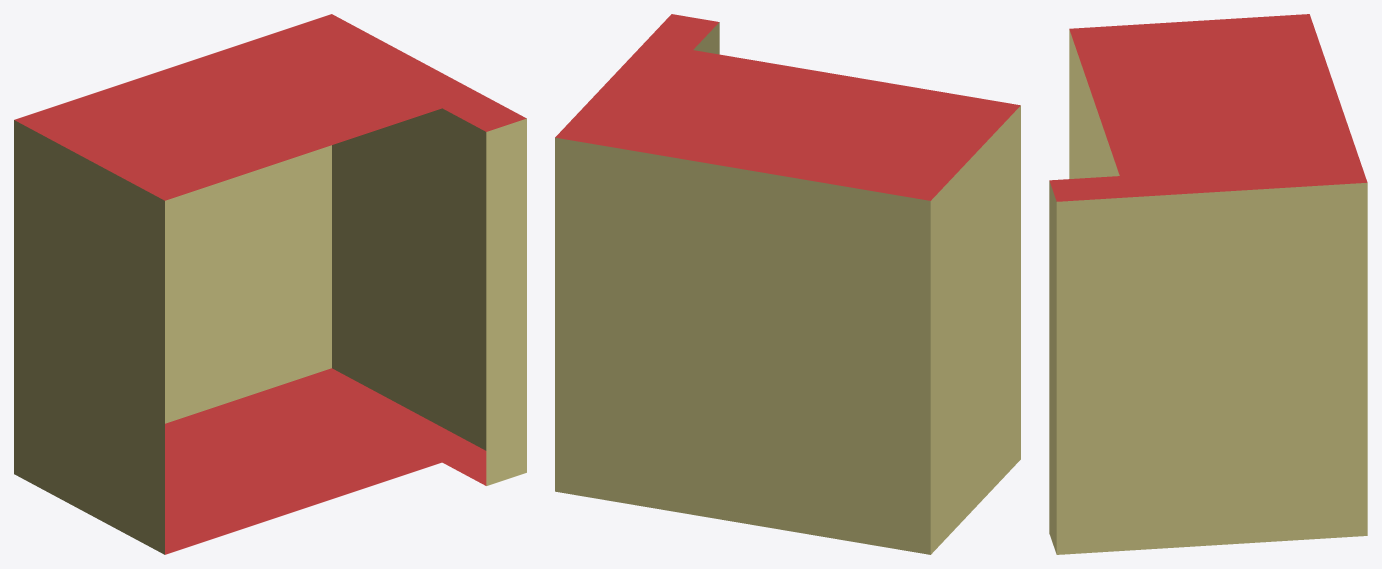
The picture shows the model from 3 angles, left to right: view 1: azimuth 30°, elevation 25°; view 2: azimuth 150°, elevation 25°; view 3: azimuth 270°, elevation 25°; orthographic projection.
Size of the model in its own units: 6.49 by 4.65 by 5.69.
